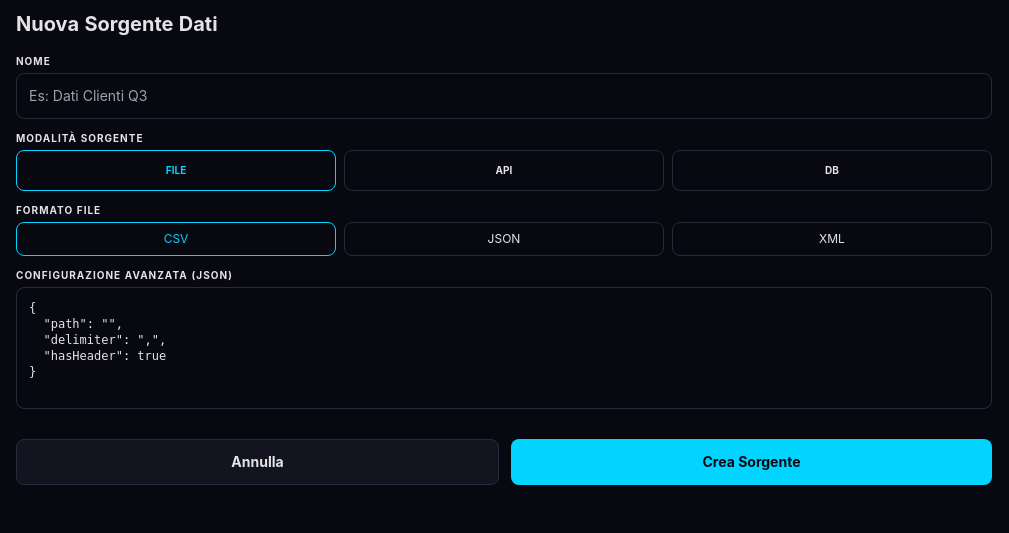
Scenario: DataSourceForm › shows configJson error for invalid API URL when URL is non-empty but invalid
Click the button "API": (504, 170) [344, 150, 664, 191]
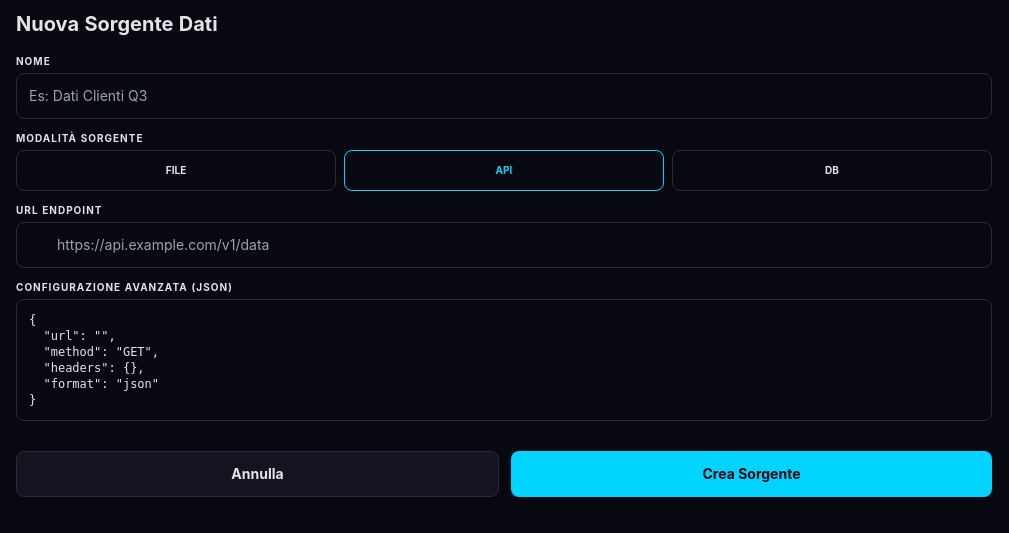
In the field with placeholder "https://api.example.com/v1/data": (504, 245) [16, 222, 992, 268], type "not-a-valid-url"
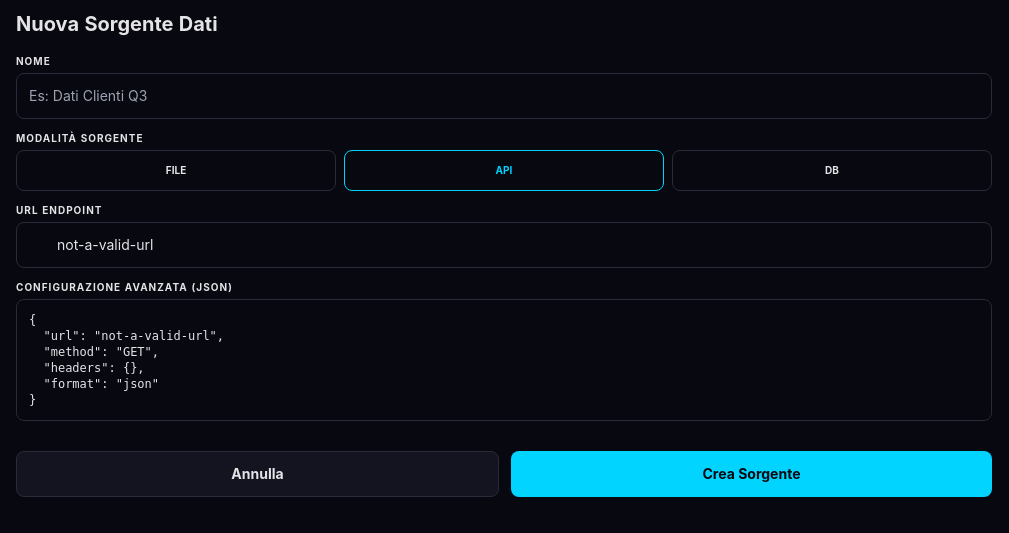
Click the button "Crea Sorgente": (752, 474) [511, 451, 992, 497]
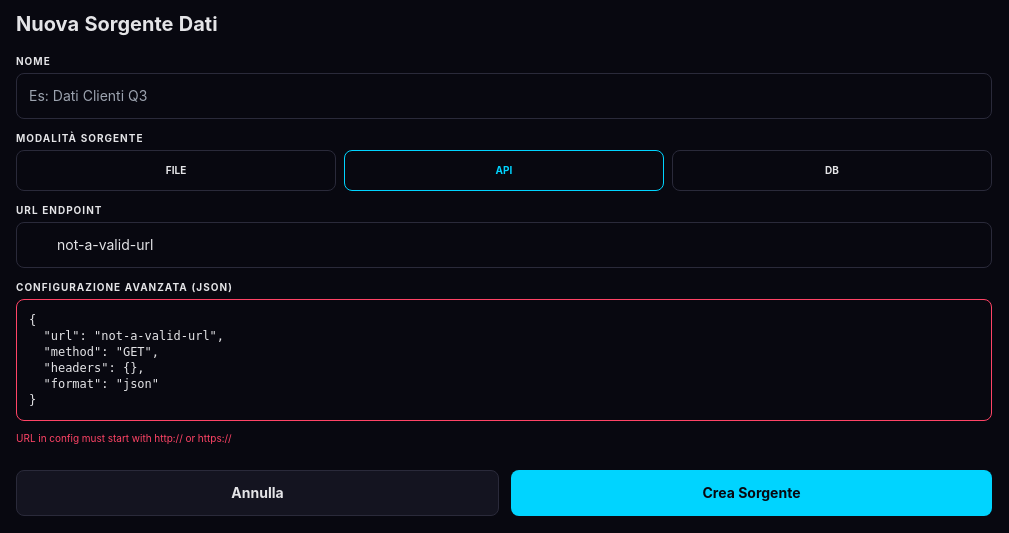
Now the text "URL in config must start with http:// or https://" is shown, box [16, 432, 232, 444]
